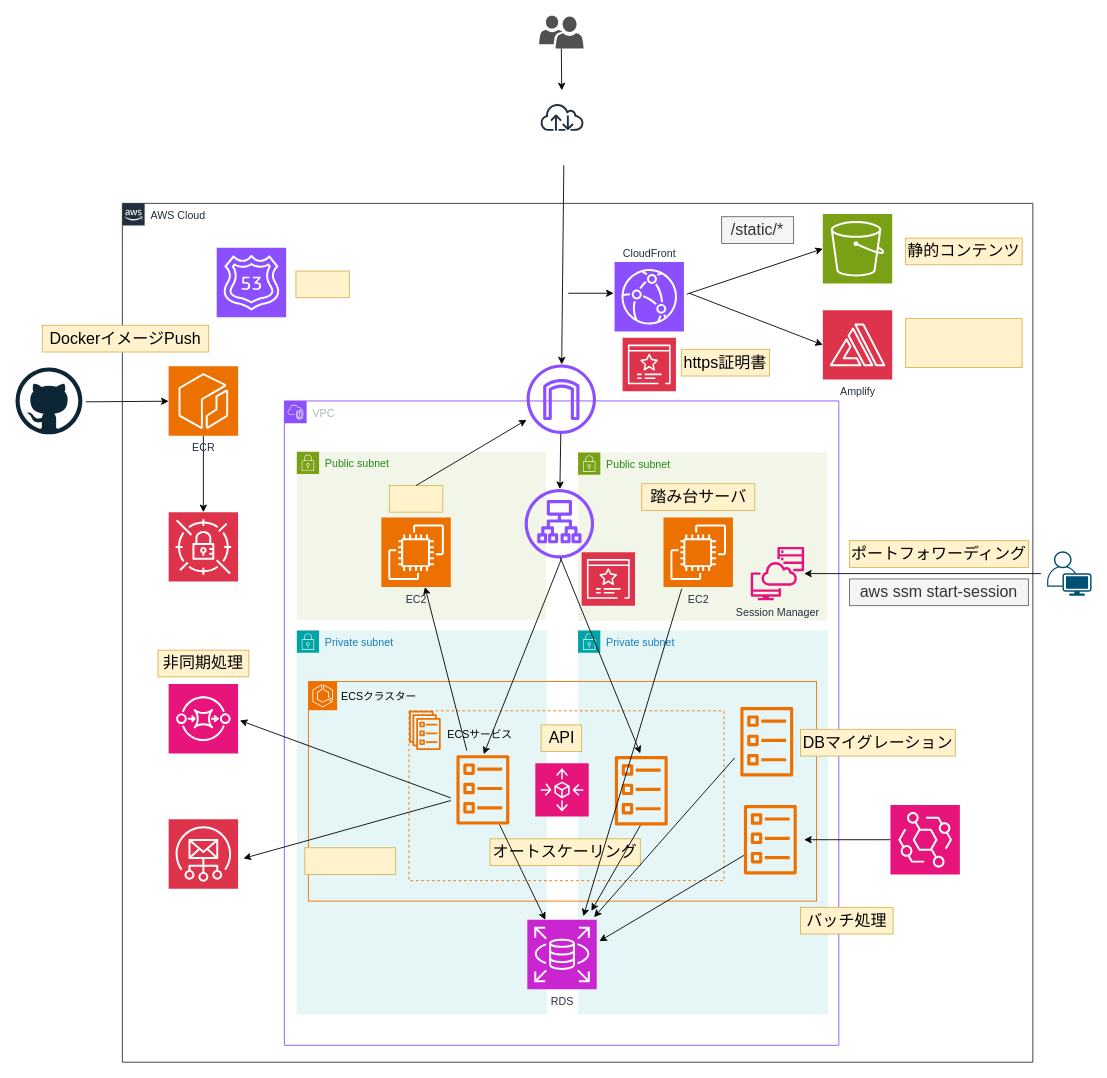
Some shapes in this 1107 by 1078 pixel diagram are drawn without their labels. The centre of each missing label's shape, as x and y in pixels:
"DNS" belongs at point 322,284.
"EventBridge" belongs at point 925,839.
"Internet" belongs at point 561,116.
"NAT" belongs at point 415,498.
"Route53" belongs at point 251,282.
"S3" belongs at point 857,248.
"Secrets Manager" belongs at point 203,546.
"SES" belongs at point 203,853.
"SQS" belongs at point 203,718.
"タスク" belongs at point 770,839.
"フロントエンド ホスティング" belongs at point 963,343.
"メール配信" belongs at point 350,860.
